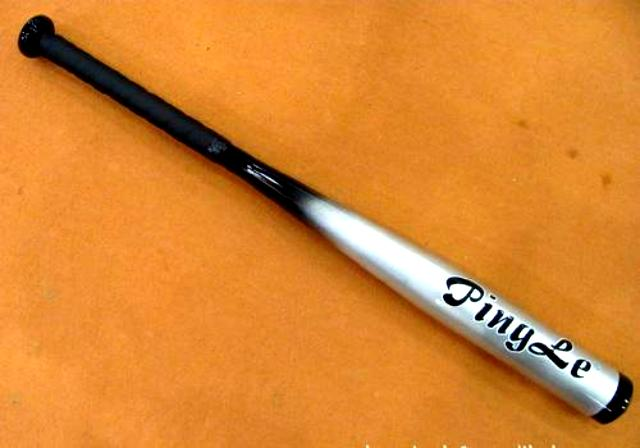baseball bat: (10, 9, 634, 435)
